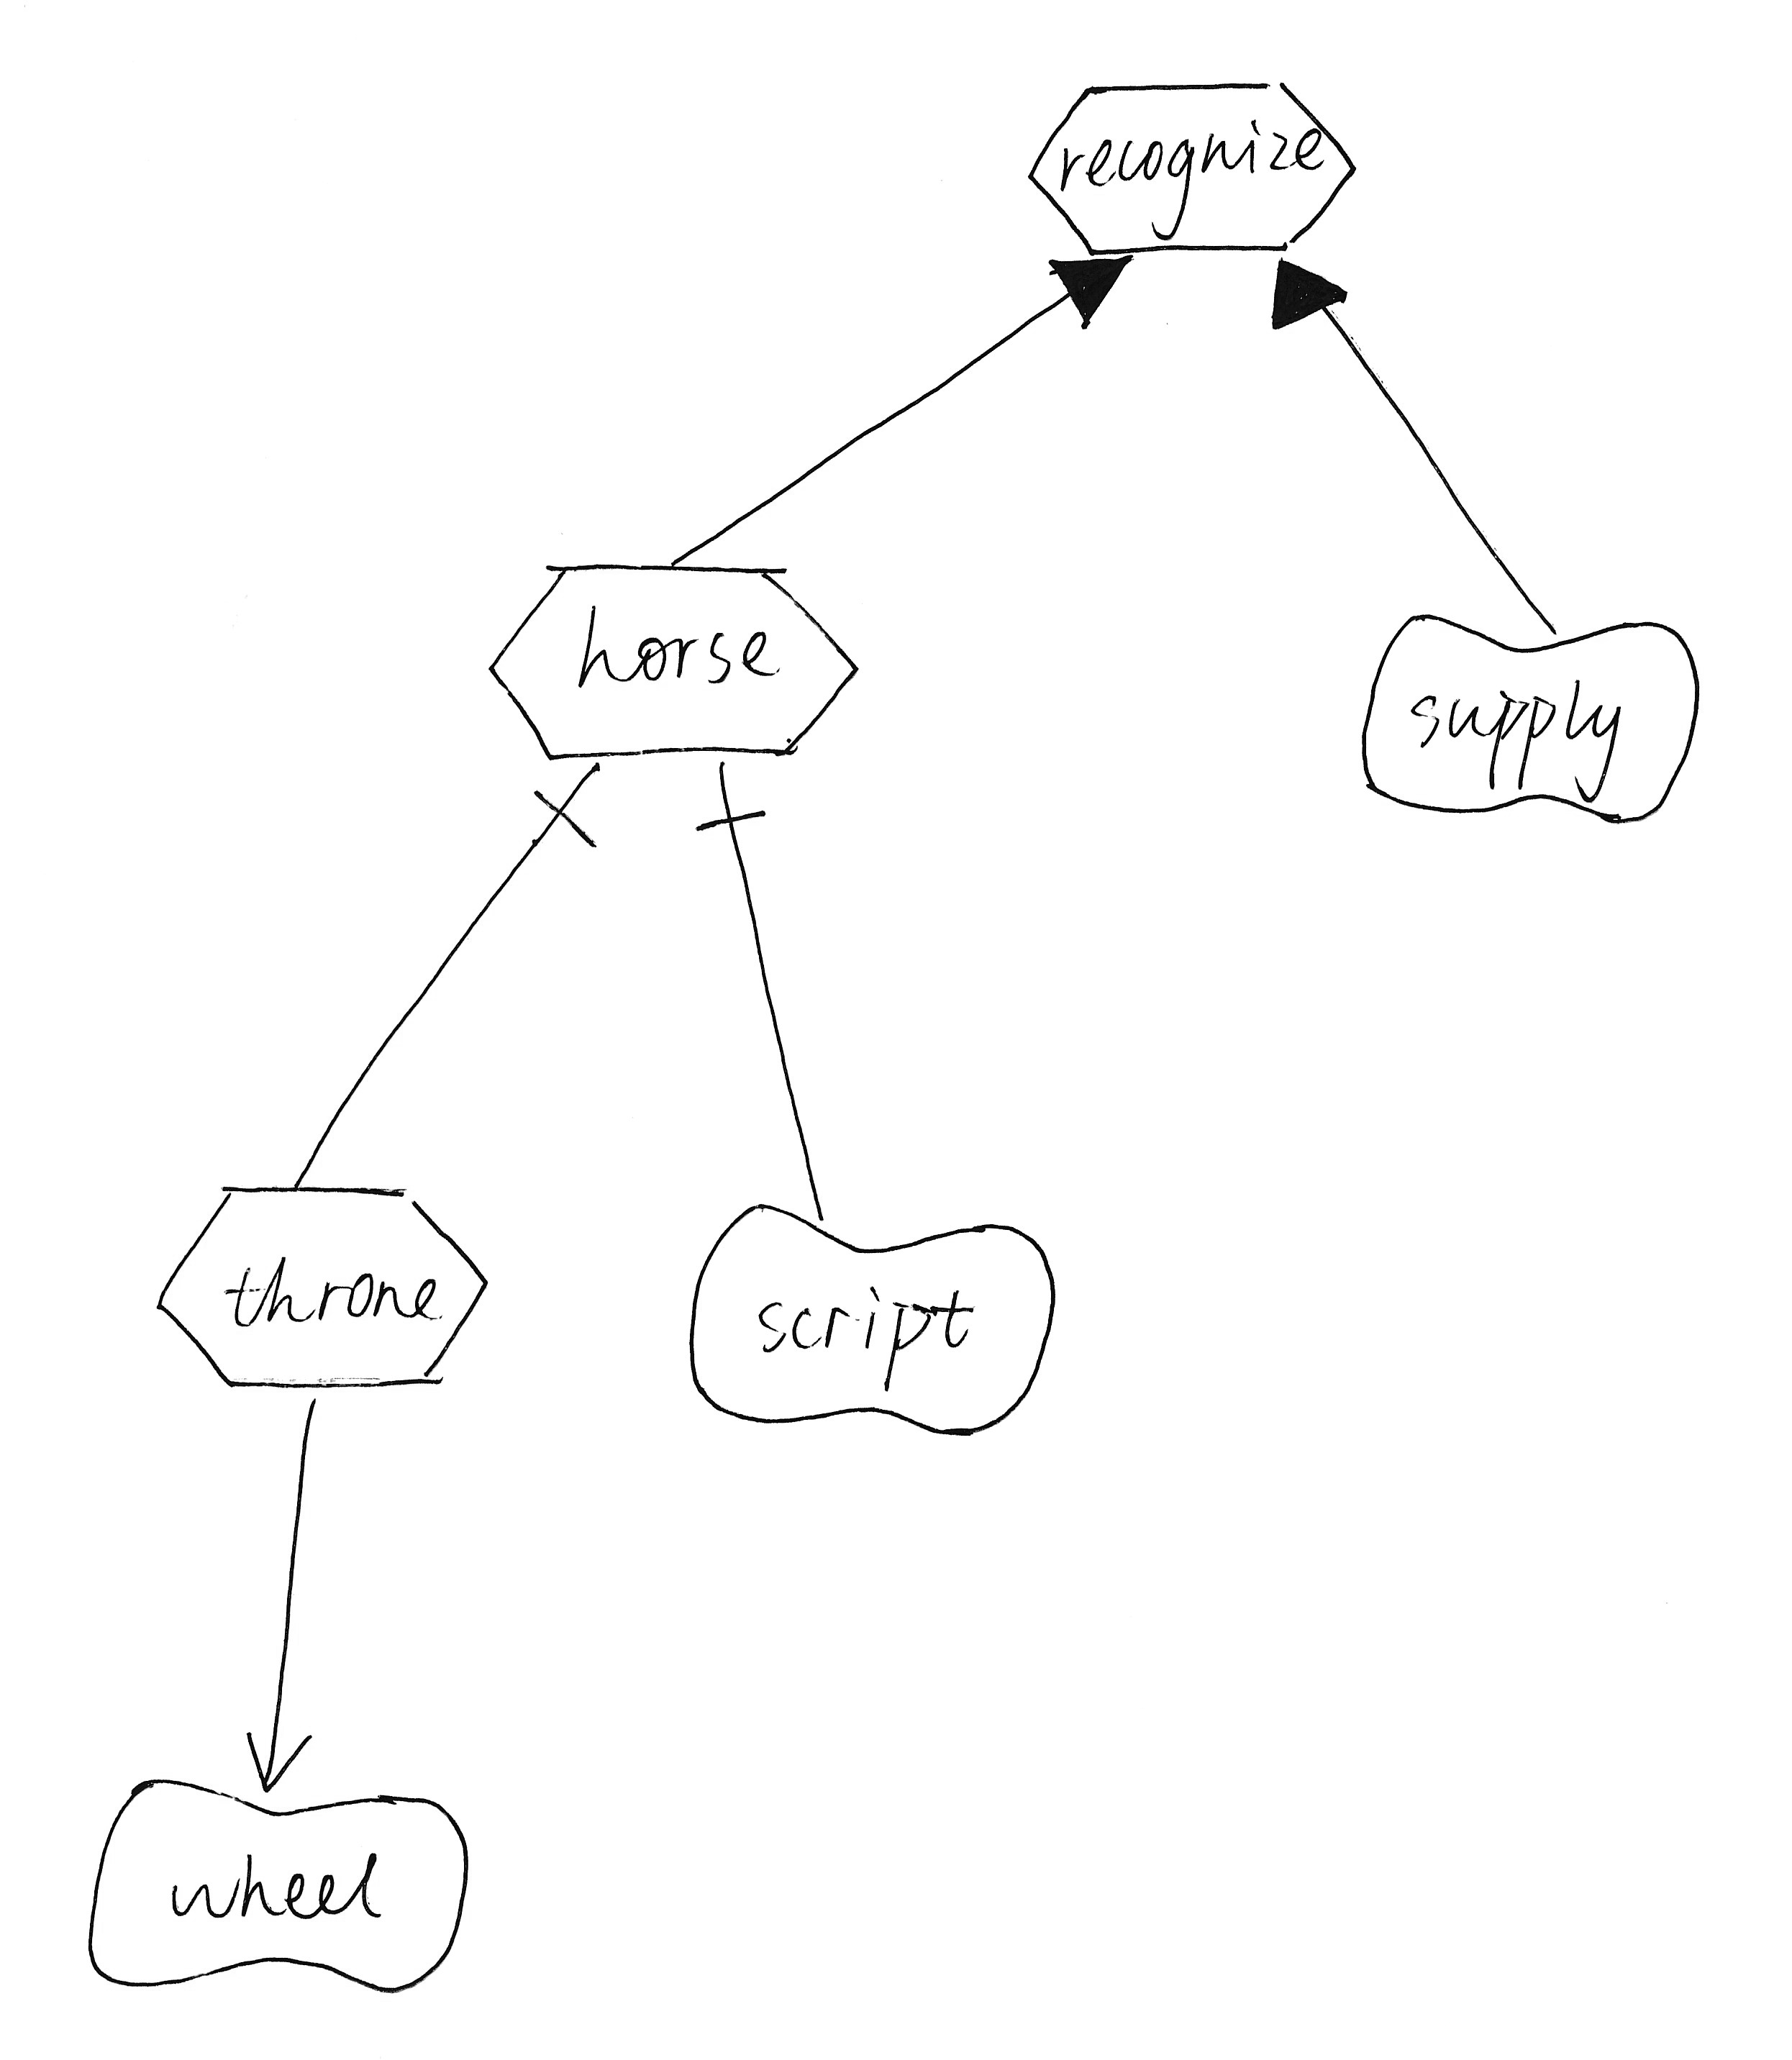and: (508, 758, 625, 872), (674, 755, 785, 865)
arrow: (214, 1715, 324, 1802)
or: (1039, 243, 1161, 347), (1244, 245, 1361, 347)
quality: (666, 1182, 1083, 1454), (67, 1762, 476, 2007), (1340, 596, 1724, 841)
task: (464, 545, 872, 778), (138, 1165, 506, 1405), (1011, 54, 1368, 279)
